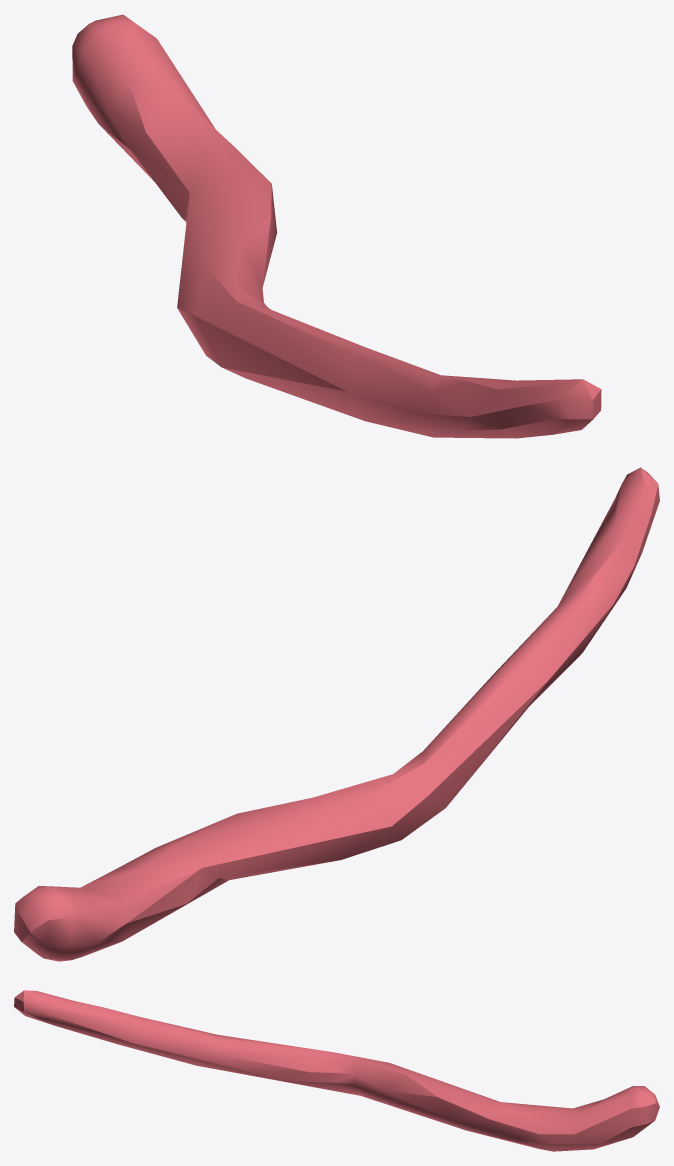
File: fma3840_fj2697.glb
The picture shows the model from 3 angles, top to bottom: view 1: azimuth 30°, elevation 25°; view 2: azimuth 150°, elevation 25°; view 3: azimuth 270°, elevation 25°; orthographic projection. The views are drawn at different scales.
Visible parts, largest first — view 1: FMA3840_FJ2697; view 2: FMA3840_FJ2697; view 3: FMA3840_FJ2697.
Boxes of the visible parts, left/top/right/bottom form: FMA3840_FJ2697: left=72, top=14, right=601, bottom=438; FMA3840_FJ2697: left=14, top=467, right=659, bottom=961; FMA3840_FJ2697: left=14, top=990, right=659, bottom=1151.
Size of the model in its own units: 0.00276 by 0.00264 by 0.0125.
